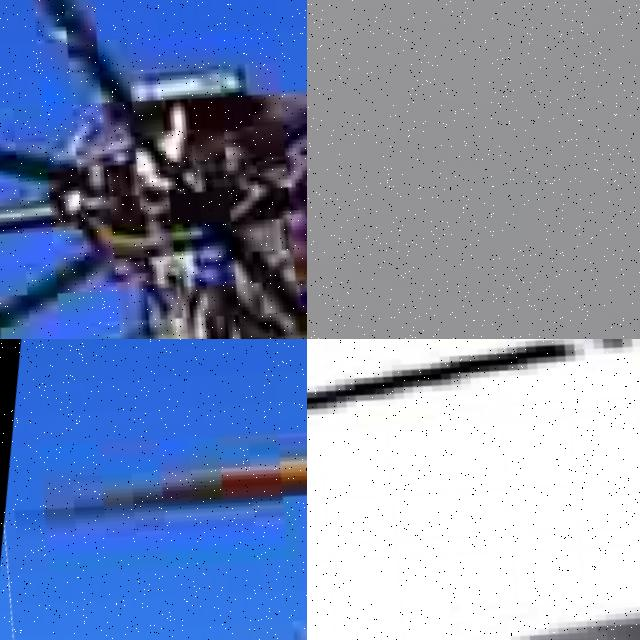0: (0, 0, 307, 339), (0, 339, 307, 640)
drone: (307, 339, 640, 640)
